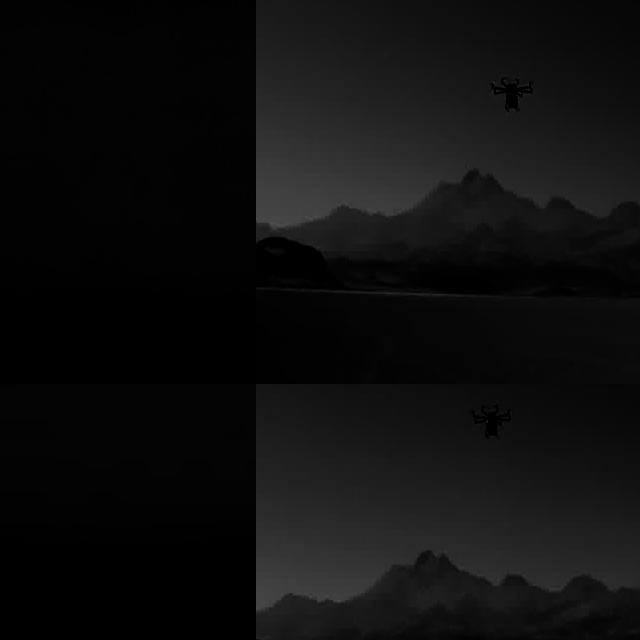drone: (469, 395, 512, 445), (488, 73, 534, 115)
